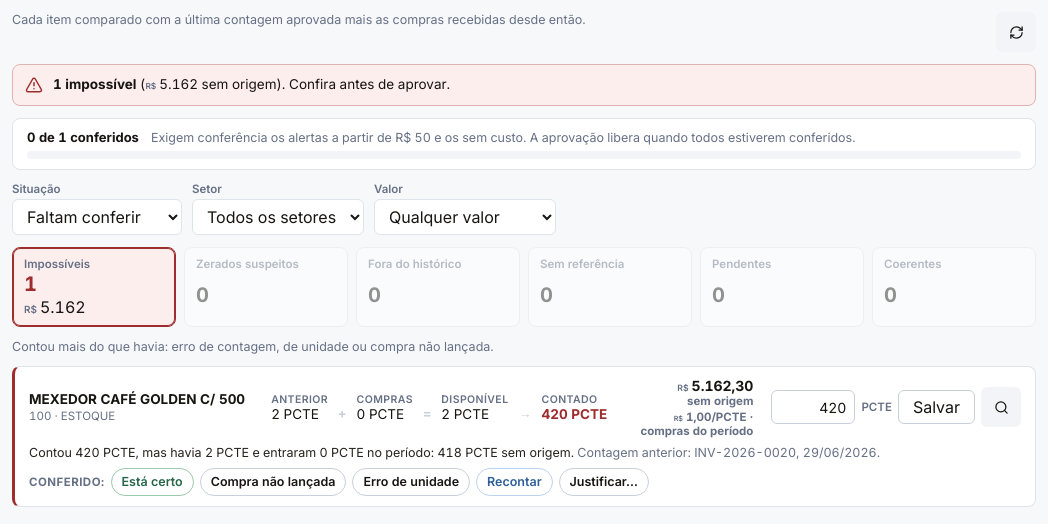
Test case: ConferenciaInventario › marcar 'esta certo' grava o motivo e recarrega
Click the button "Está certo" at (152, 482), box [110,468,194,496]
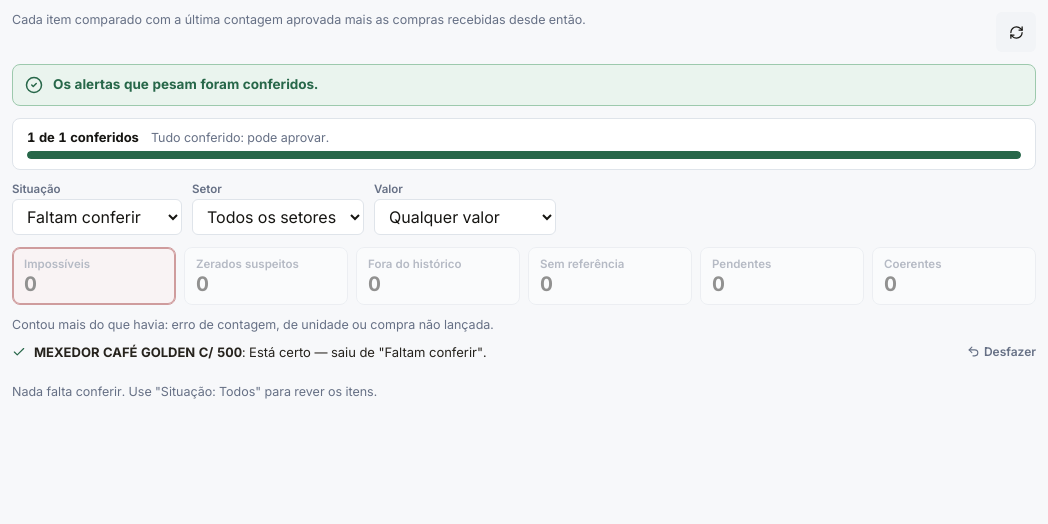
Expected: the text "Nada falta conferir" is shown, [12,384,377,399]
Expected: the text "saiu de \"Faltam conferir\"" is shown, [311,344,486,360]
